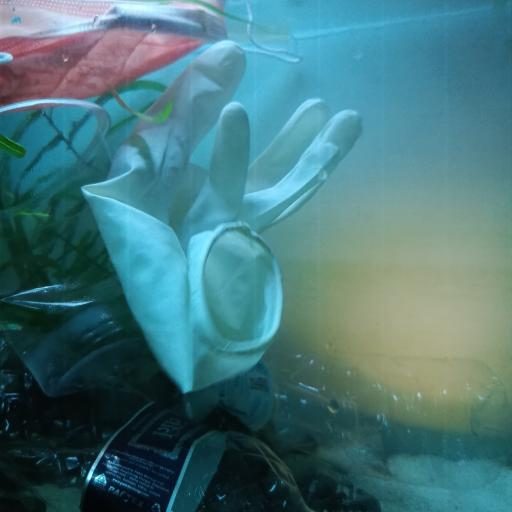glove: (81, 40, 364, 395)
mask: (0, 2, 226, 105)
plastic_bottle: (0, 366, 312, 512), (187, 351, 509, 488)
plastic_cup: (0, 100, 161, 395)
